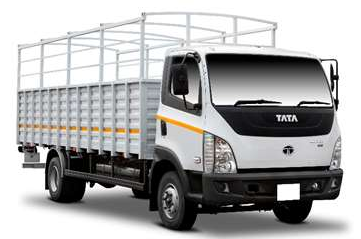truck: (13, 1, 345, 233)
